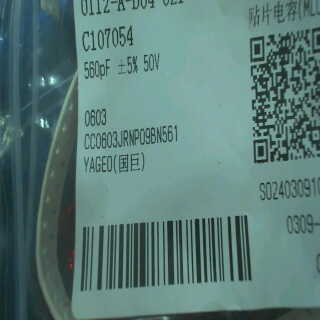560pF: (80, 55, 115, 83)
